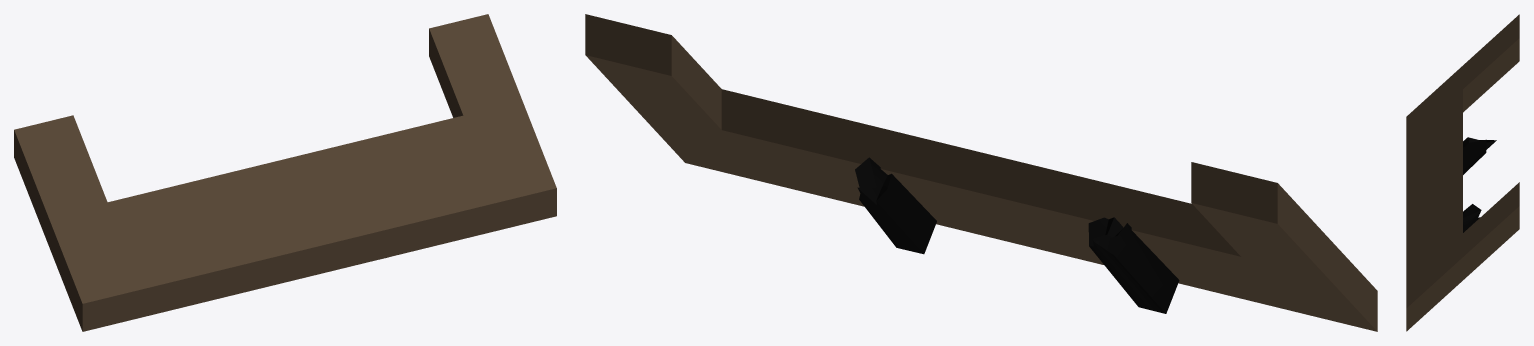
Rendered from dach_traufe_kaputt.glb.
3 views of the same model, side by side, from view 1: azimuth 30°, elevation 25°; view 2: azimuth 150°, elevation 25°; view 3: azimuth 270°, elevation 25° (orthographic). The views are drawn at different scales.
Visible parts, largest first — view 1: dach_traufe_kaputt; view 2: dach_traufe_kaputt; view 3: dach_traufe_kaputt.
Part boxes in pixels (left/top/right/bottom): dach_traufe_kaputt: left=14, top=14, right=556, bottom=331; dach_traufe_kaputt: left=585, top=14, right=1377, bottom=331; dach_traufe_kaputt: left=1406, top=14, right=1519, bottom=331.
Size of the model in its own units: 2 by 0.6595 by 0.5.
